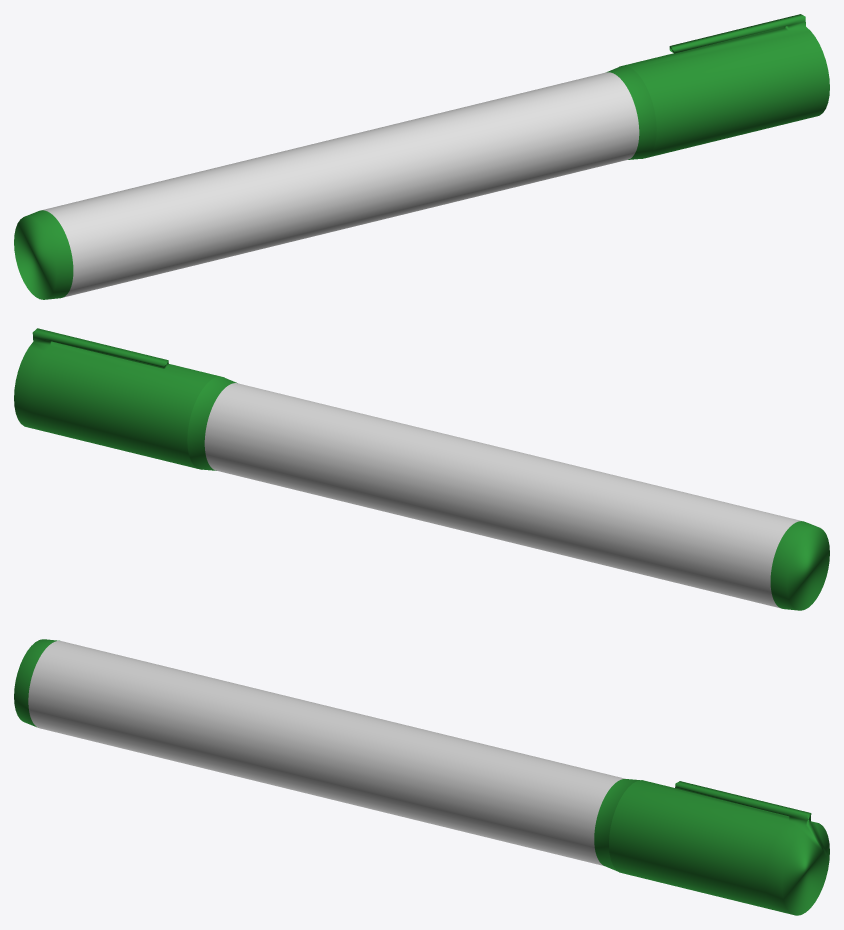
Rendered from feutreVert.fbx.
3 renders of one model, top to bottom at view 1: azimuth 30°, elevation 25°; view 2: azimuth 150°, elevation 25°; view 3: azimuth 330°, elevation 25°, orthographic.
Parts seen in each view (by area): view 1: stylo; view 2: stylo; view 3: stylo.
Boxes of the visible parts, left/top/right/bottom form: stylo: left=14, top=14, right=829, bottom=299; stylo: left=14, top=328, right=829, bottom=610; stylo: left=14, top=639, right=829, bottom=915.
Bounding box in the file's own units: 2.72 × 0.325 × 0.2924.
